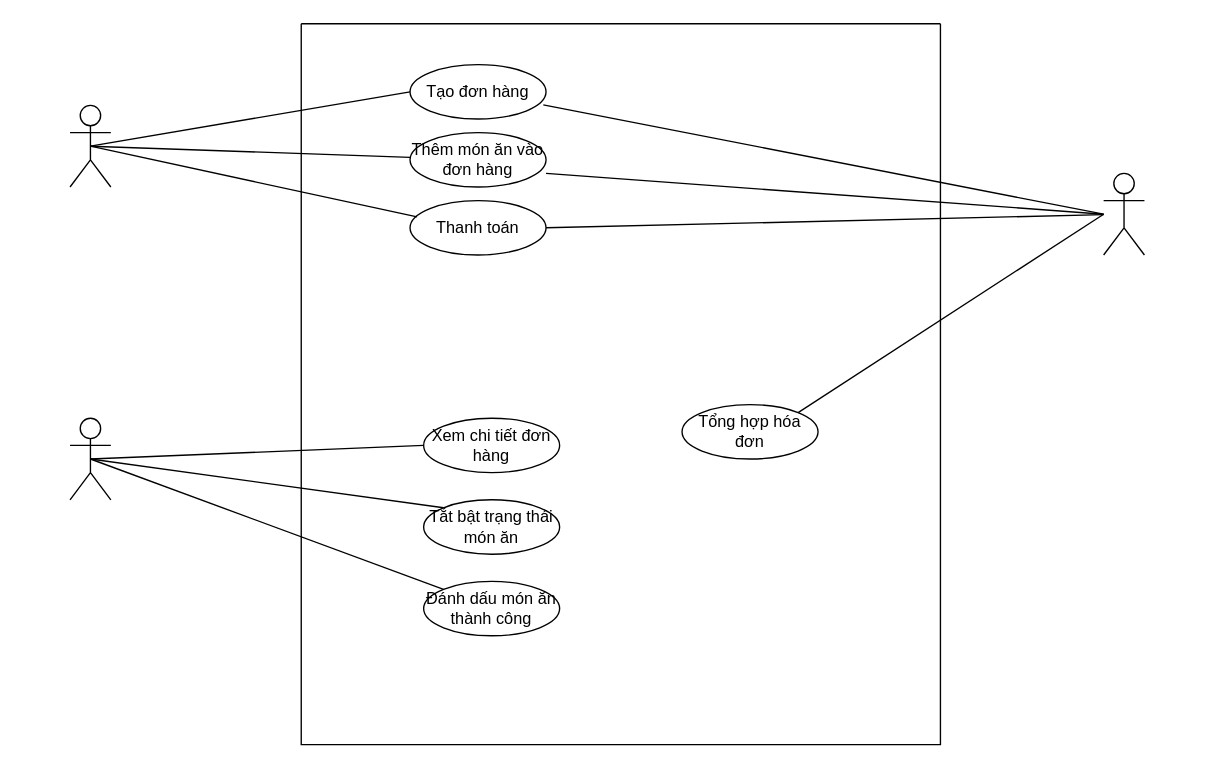
The diagram is 1213 pixels wide and 768 high, and some of its shapes have lost their labels. Here are the shapes that lost their labels. From the top down, the centre of each, then its label:
point (90, 145): Nhân viên phục vụ
point (1123, 213): Nhân viên quản lý
point (90, 458): Nhân viên bếp
